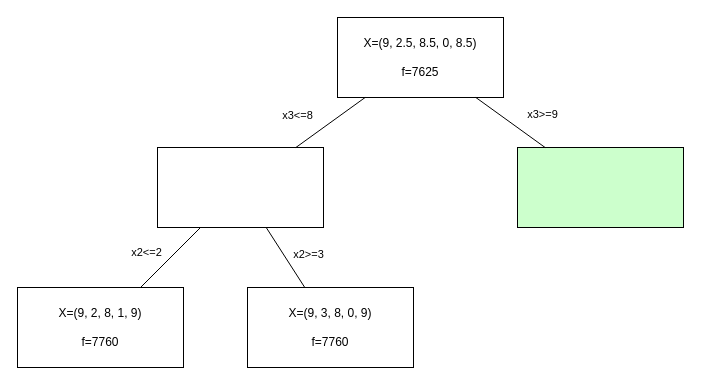
Some shapes in this 701 by 385 pixel diagram are drawn without their labels. Each missing label, with the centre of its shape:
"X=(10, 2, 9, 0, 8) f=7720" belongs at [600,187].
"X=(8.5, 2.5, 8, 0.5, 9) f=7645" belongs at [240,187].
